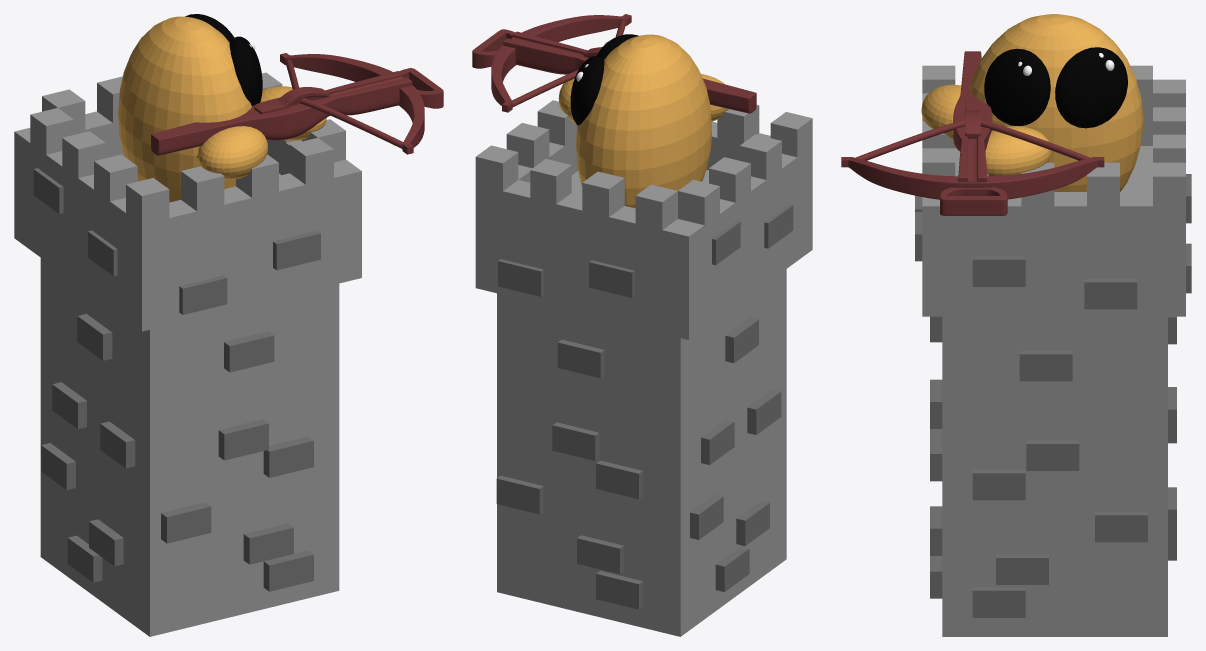
The model's file is střelna.fbx.
The picture shows the model from 3 angles, left to right: view 1: azimuth 30°, elevation 25°; view 2: azimuth 150°, elevation 25°; view 3: azimuth 270°, elevation 25°; orthographic projection. The views are drawn at different scales.
Parts seen in each view (by area): view 1: Cube, Cube.001, Sphere.008, Sphere, Cube.030, Cube.027, Cube.028, Cube.031, Cube.026, Cube.029, Sphere.001, Cube.033 (+9 smaller); view 2: Cube, Cube.001, Sphere, Sphere.008, Sphere.002, Cube.020, Cube.021, Cube.023, Cube.025, Cube.022, Cube.024, Cube.018 (+9 smaller); view 3: Cube, Cube.001, Sphere.008, Sphere, Sphere.002, Sphere.001, Cube.007, Cube.002, Cube.004, Cube.005, Cube.006, Cube.008 (+6 smaller).
Part boxes in pixels (x1,y1,x2,y2): Cube: [40, 258, 339, 636]; Cube.001: [14, 72, 361, 331]; Sphere.008: [151, 53, 443, 180]; Sphere: [118, 16, 251, 202]; Cube.030: [218, 419, 268, 460]; Cube.027: [243, 523, 293, 564]; Cube.028: [224, 331, 274, 372]; Cube.031: [161, 502, 211, 543]; Cube.026: [263, 550, 313, 591]; Cube.029: [263, 436, 313, 477]; Sphere.001: [229, 36, 262, 106]; Cube.033: [179, 275, 227, 314]; Cube: [497, 269, 786, 636]; Cube.001: [475, 100, 812, 339]; Sphere: [576, 34, 711, 208]; Sphere.008: [472, 14, 756, 123]; Sphere.002: [570, 56, 604, 125]; Cube.020: [496, 475, 543, 514]; Cube.021: [552, 422, 599, 460]; Cube.023: [557, 339, 604, 378]; Cube.025: [596, 571, 643, 609]; Cube.022: [596, 460, 643, 499]; Cube.024: [577, 535, 623, 573]; Cube.018: [498, 259, 543, 296]; Cube: [942, 316, 1167, 636]; Cube.001: [922, 65, 1185, 316]; Sphere.008: [841, 51, 1104, 215]; Sphere: [970, 14, 1143, 191]; Sphere.002: [1055, 47, 1127, 128]; Sphere.001: [984, 48, 1050, 125]; Cube.007: [1095, 511, 1147, 542]; Cube.002: [972, 587, 1025, 617]; Cube.004: [1019, 351, 1072, 381]; Cube.005: [972, 470, 1025, 500]; Cube.006: [1026, 440, 1079, 470]; Cube.008: [972, 256, 1025, 286].
Size of the model in its own units: 334 by 558 by 310.
